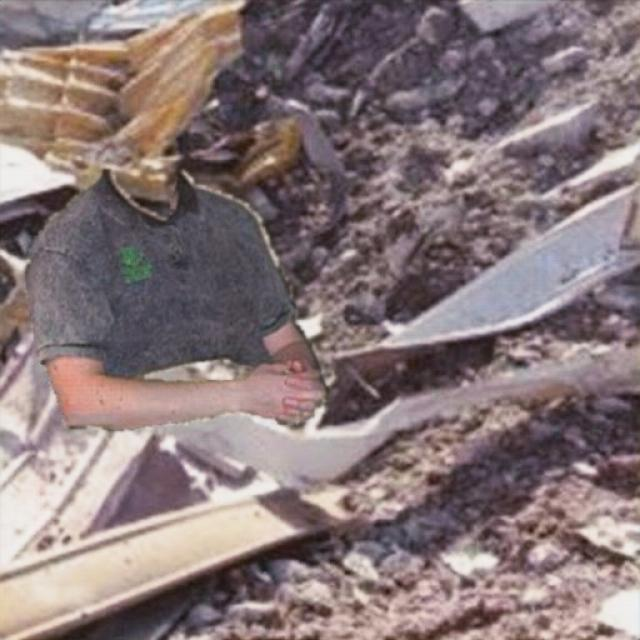Person in Rubble: (25, 169, 328, 430)
